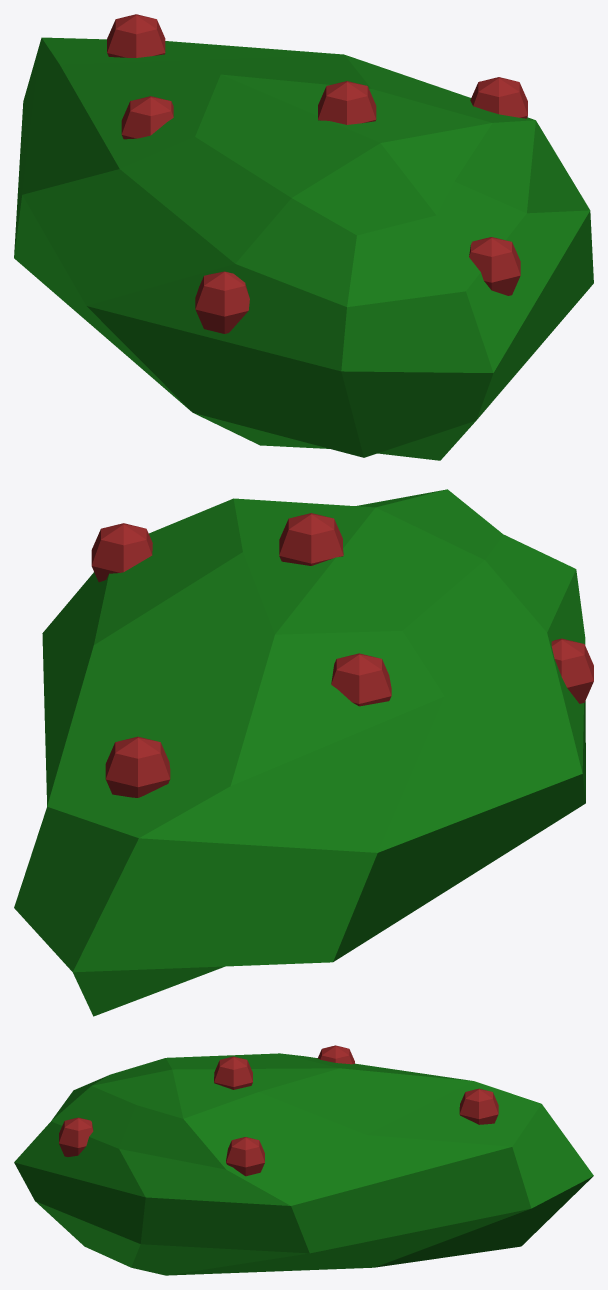
File: bush4.fbx
The picture shows the model from 3 angles, top to bottom: view 1: azimuth 30°, elevation 25°; view 2: azimuth 150°, elevation 25°; view 3: azimuth 270°, elevation 25°; orthographic projection. The views are drawn at different scales.
Visible parts, largest first — view 1: bush_4_combine_after_color, pSphere14, pSphere13, pSphere9, pSphere12, pSphere10, pSphere11; view 2: bush_4_combine_after_color, pSphere9, pSphere12, pSphere10, pSphere11, pSphere14; view 3: bush_4_combine_after_color, pSphere10, pSphere9, pSphere12, pSphere13, pSphere11.
Boxes of the visible parts, x1,y1,x2,y2 form: bush_4_combine_after_color: (14, 37, 593, 460); pSphere14: (195, 271, 249, 333); pSphere13: (469, 237, 520, 295); pSphere9: (107, 14, 165, 57); pSphere12: (318, 81, 376, 124); pSphere10: (470, 77, 527, 118); pSphere11: (121, 96, 173, 139); bush_4_combine_after_color: (14, 489, 585, 1016); pSphere9: (105, 736, 170, 797); pSphere12: (279, 513, 343, 565); pSphere10: (91, 523, 152, 582); pSphere11: (331, 653, 391, 706); pSphere14: (551, 638, 593, 703); bush_4_combine_after_color: (14, 1053, 593, 1275); pSphere10: (226, 1137, 264, 1176); pSphere9: (459, 1088, 498, 1124); pSphere12: (214, 1056, 252, 1089); pSphere13: (59, 1117, 93, 1156); pSphere11: (317, 1045, 354, 1064).
Size of the model in its own units: 2.68 by 1.67 by 4.45.
